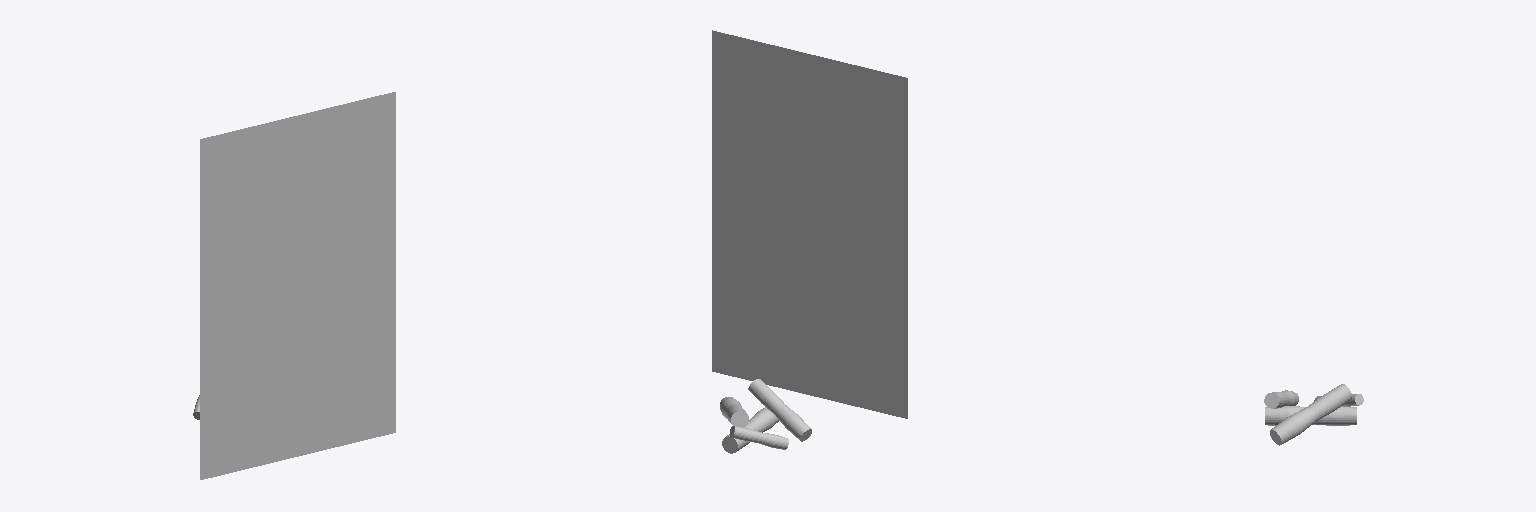
Rendered from bonfire.obj.
3 views of the same model, side by side, from view 1: azimuth 30°, elevation 25°; view 2: azimuth 150°, elevation 25°; view 3: azimuth 270°, elevation 25° (orthographic).
Parts seen in each view (by area): view 1: Cylinder.002; view 2: Cylinder.002, Cylinder, Cylinder.003, Cylinder.001; view 3: Cylinder.001, Cylinder.
Boxes of the visible parts, x1=… form: Cylinder.002: x1=200, y1=92, x2=395, y2=479; Cylinder.002: x1=712, y1=30, x2=907, y2=441; Cylinder: x1=722, y1=407, x2=778, y2=453; Cylinder.003: x1=730, y1=426, x2=788, y2=449; Cylinder.001: x1=720, y1=397, x2=748, y2=427; Cylinder.001: x1=1270, y1=384, x2=1351, y2=445; Cylinder: x1=1265, y1=406, x2=1356, y2=425.
Size of the model in its own units: 39.6 by 66.23 by 29.35.